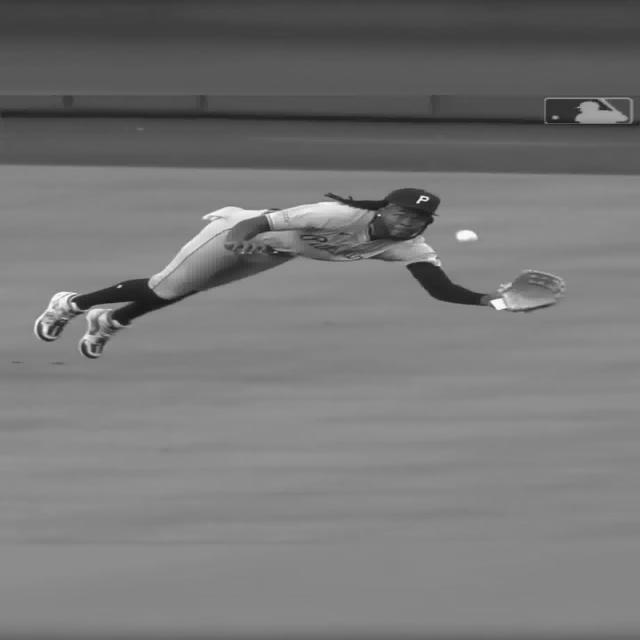baseball: (455, 230, 476, 244)
baseball_glove: (498, 269, 570, 312)
shoe: (35, 290, 85, 342), (86, 309, 122, 357)
